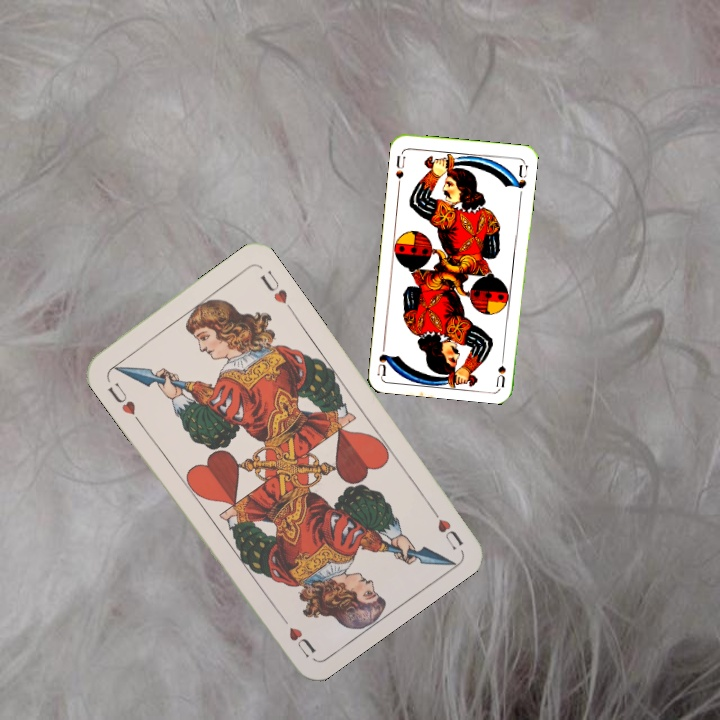HU: (424, 500, 466, 553), (103, 378, 143, 425)
SU: (492, 347, 508, 388), (392, 152, 408, 189)
